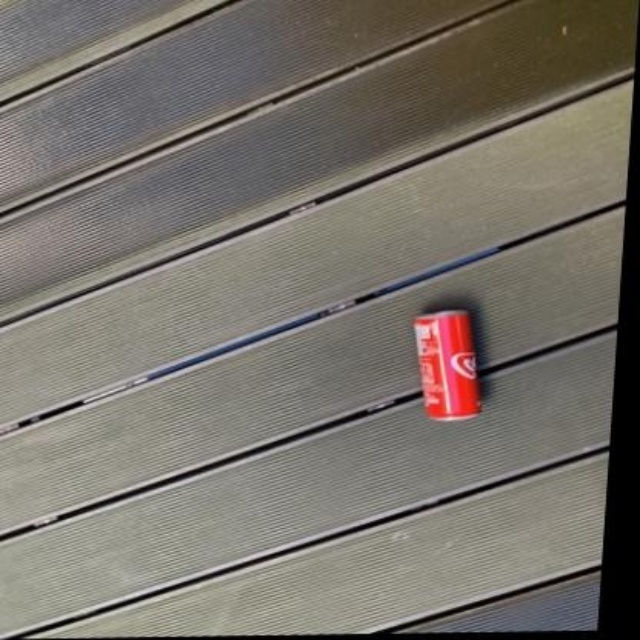trash: (414, 311, 480, 418)
